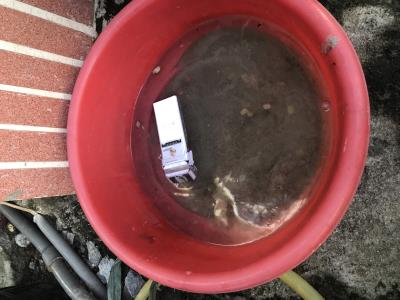bowl: (64, 1, 375, 294)
